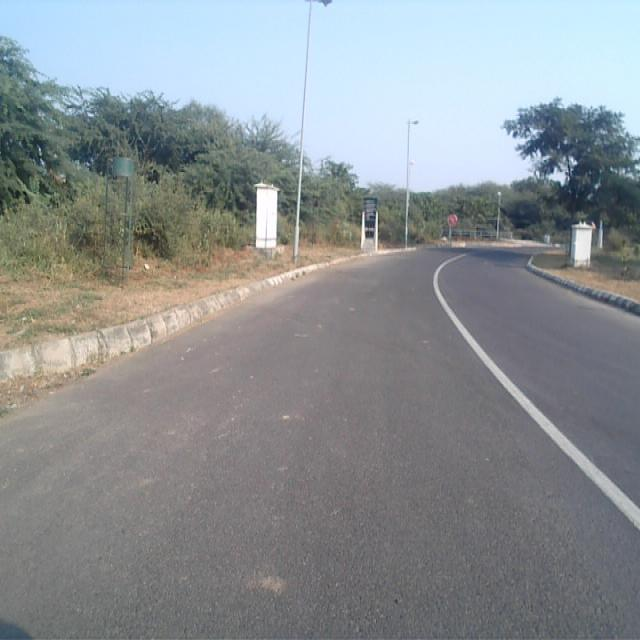lane: (1, 250, 640, 640)
